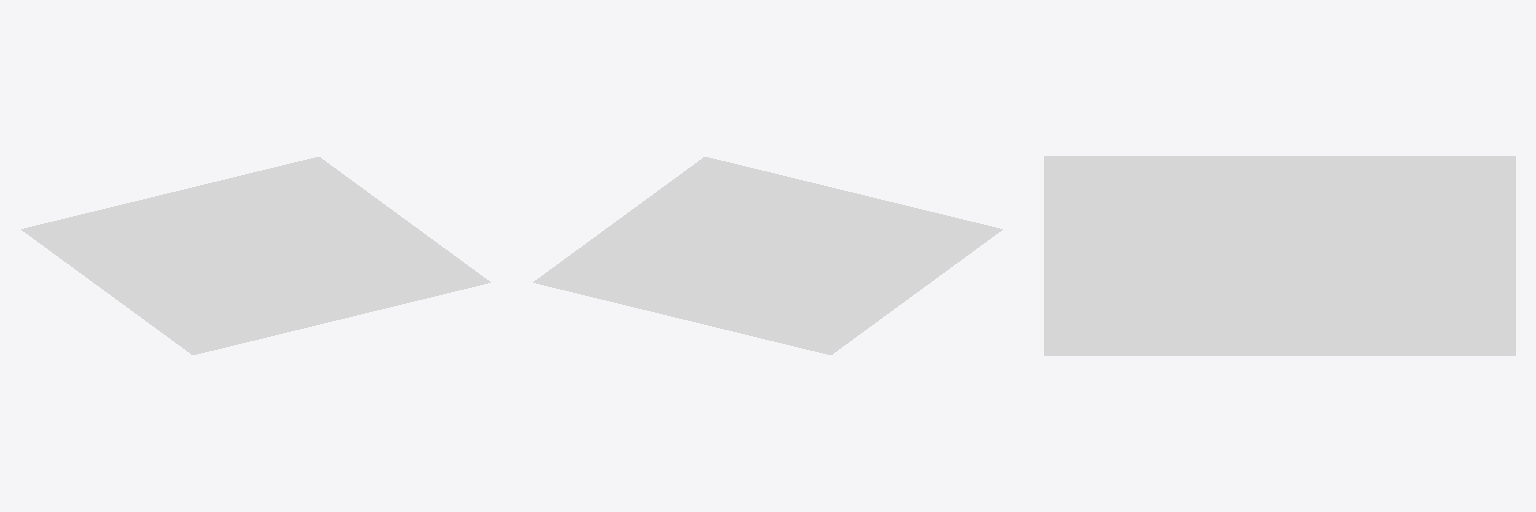
robot.urdf — plane:
<?xml version="1.0"?>
<robot name="plane">
  <link name="origin">
    <inertial>
      <origin rpy="0 0 0" xyz="0 0 0"/>
      <mass value=".0"/>
      <inertia ixx="0" ixy="0" ixz="0" iyy="0" iyz="0" izz="0"/>
    </inertial>
    <visual>
      <origin rpy="0 0 0" xyz="0 0 0"/>
      <geometry>
				<mesh filename="wood_floor_model.dae" scale="1 1 1"/>
      </geometry>
      <material name="planemat">
        <color rgba="0.95 0.95 0.95 1"/>
      </material>
    </visual>
    <collision>
      <origin rpy="0 0 0" xyz="0 0 -5"/>
      <geometry>
	 	    <box size="200 200 10"/>
      </geometry>
    </collision>
  </link>

</robot>

--- Facts derived from the render (not from the file) ---
3 views of the same robot in one strip: view 1: azimuth 30°, elevation 25°; view 2: azimuth 150°, elevation 25°; view 3: azimuth 270°, elevation 25° (orthographic).
Model plane with 1 links and 0 joints (none), rooted at origin, posed every joint at zero.
Links seen in each view (by area): view 1: origin; view 2: origin; view 3: origin.
Link boxes in pixels (x1=…): origin: x1=21, y1=157, x2=490, y2=354; origin: x1=533, y1=157, x2=1002, y2=354; origin: x1=1044, y1=156, x2=1515, y2=355.
Size in the robot's own frame: 10 by 10 by 0 metres.
Meshes: 1 distinct files referenced, 1 mesh visuals loaded (1 Collada DAE).
